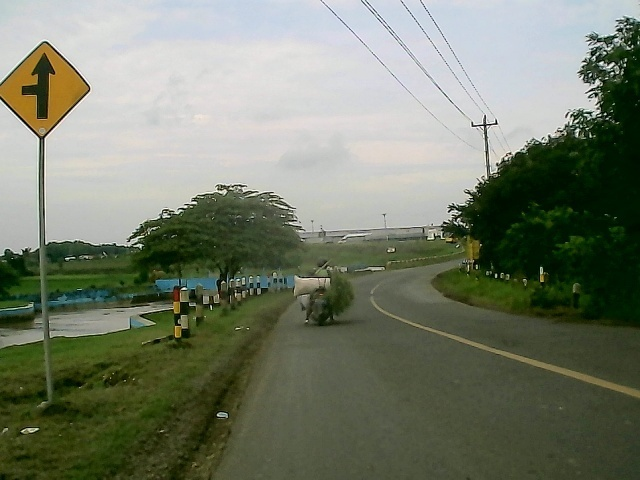Simpang kiri dengan prioritas: (1, 38, 94, 142)
